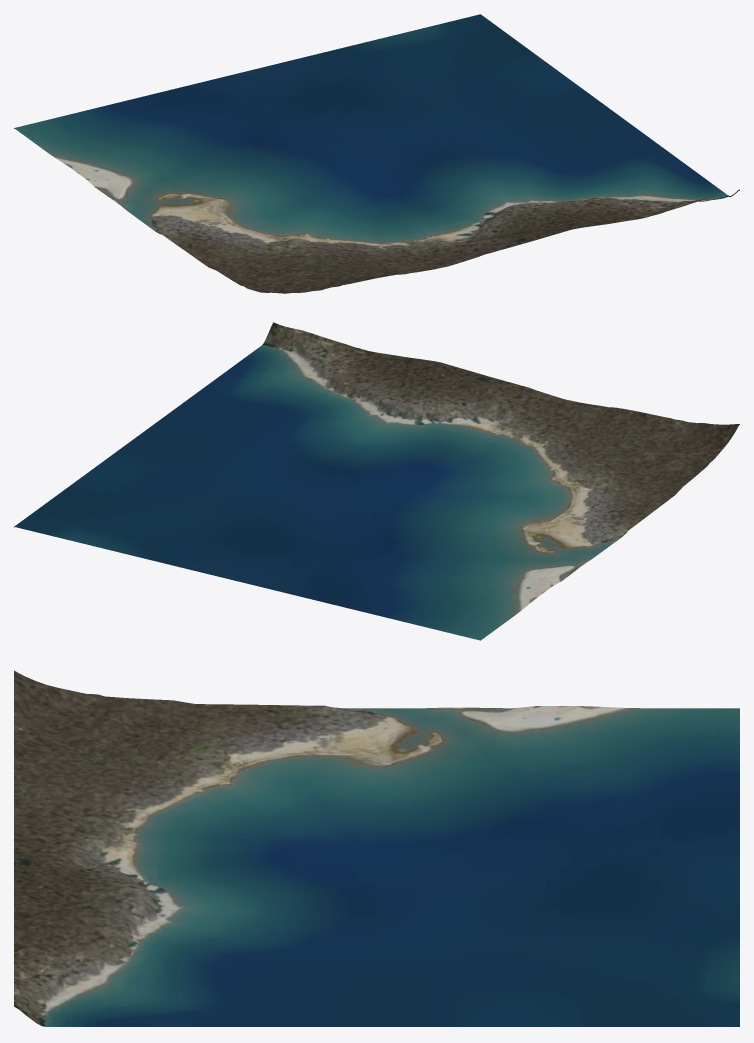
3 renders of one model, top to bottom at view 1: azimuth 30°, elevation 25°; view 2: azimuth 150°, elevation 25°; view 3: azimuth 270°, elevation 25°, orthographic. The views are drawn at different scales.
Bounding box in the file's own units: 500 × 28.72 × 481.
Materials: 1 (1 with a texture image).
